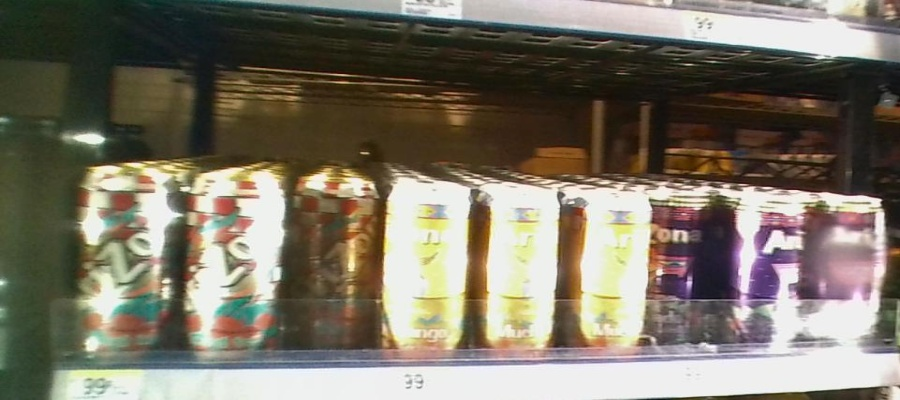bottle: (182, 167, 288, 361), (74, 163, 177, 359), (288, 169, 380, 361), (473, 170, 565, 361), (383, 169, 472, 362), (565, 174, 651, 358), (728, 188, 810, 351), (813, 181, 889, 350), (651, 178, 715, 351)
